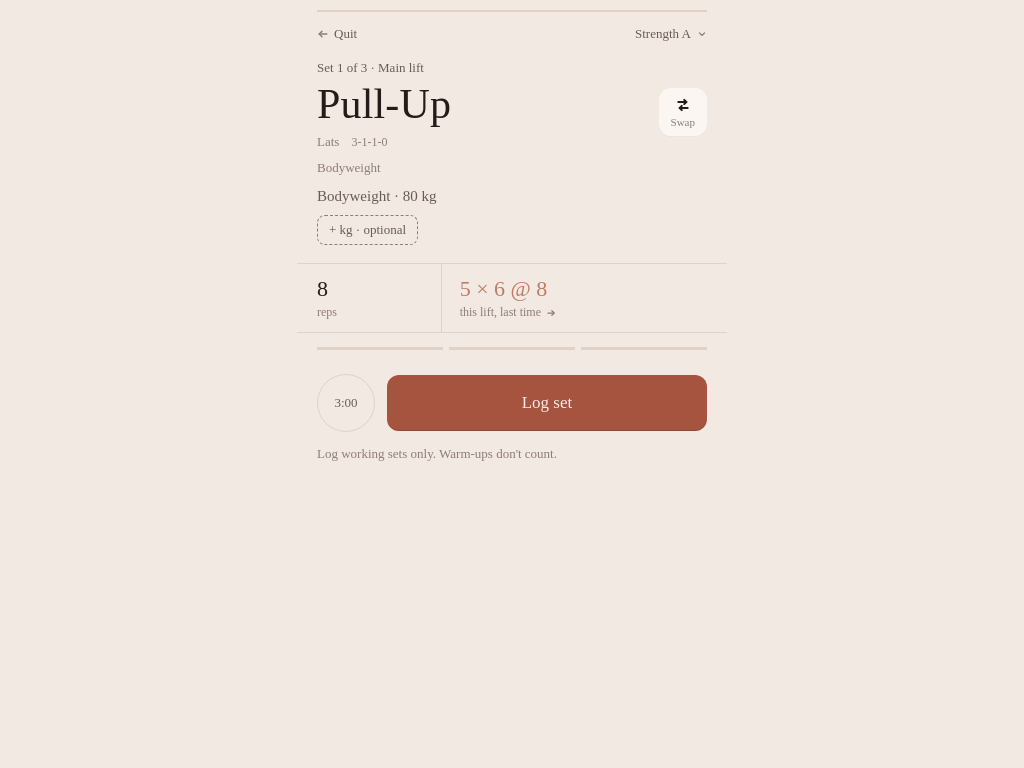
Test: loaded bodyweight lifts present added weight as optional, stored in W › "this lift, last time" reads a loaded-bodyweight set's weight as added kg
This screenshot has width=1024, height=768.
Click the button with aria-label "Recent history for" at (504, 289), box [441, 264, 727, 332]
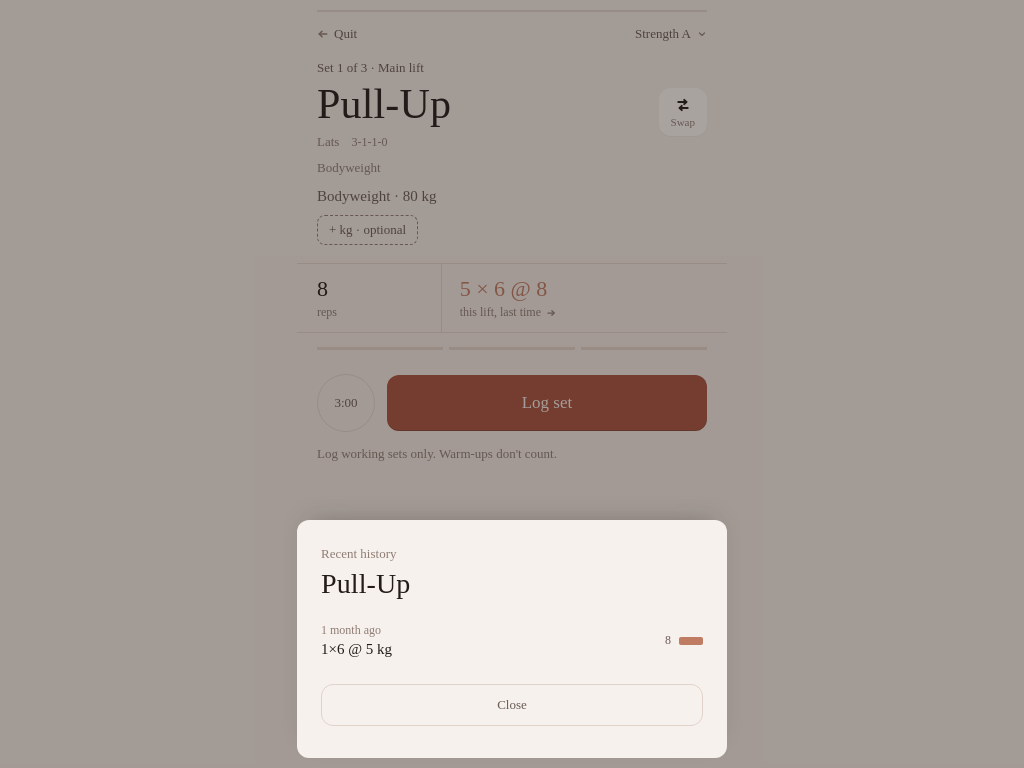
expect the dialog shows "1×6 @ 5 kg": met, box [321, 641, 392, 657]
